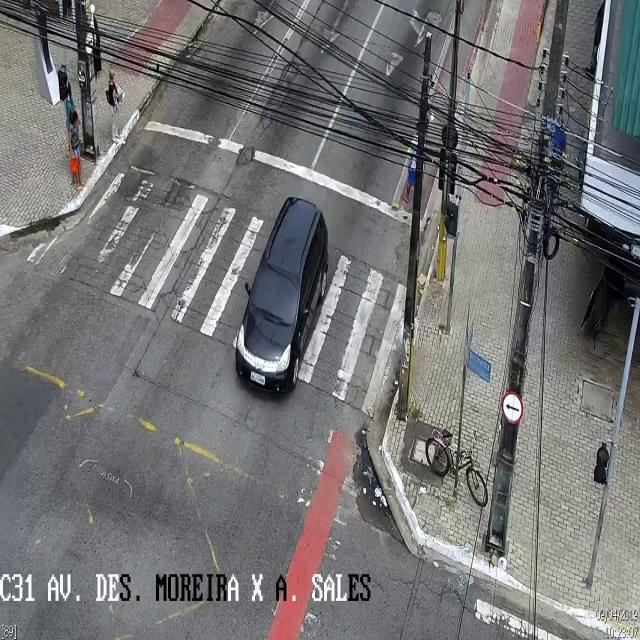Car: (235, 196, 327, 400)
